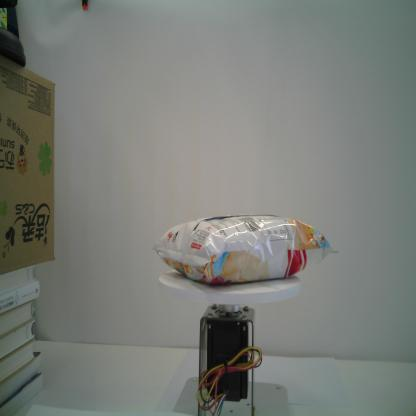Puffed Food: (149, 206, 339, 287)
